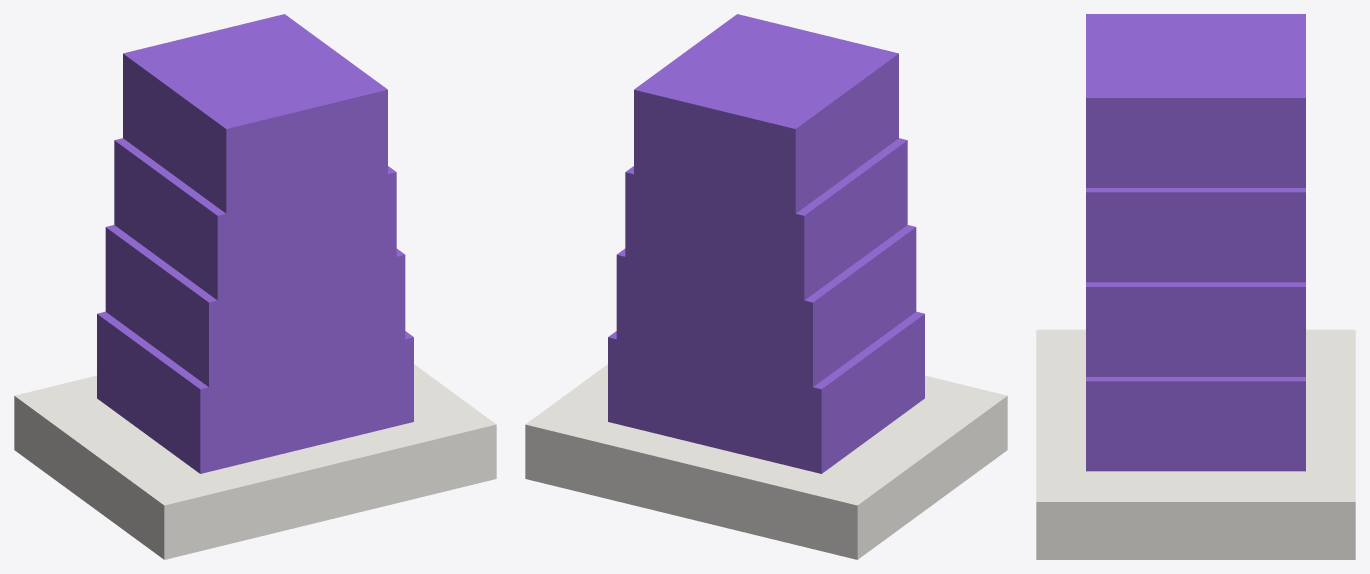
Rendered from art_easel-lv4.glb.
The picture shows the model from 3 angles, left to right: view 1: azimuth 30°, elevation 25°; view 2: azimuth 150°, elevation 25°; view 3: azimuth 270°, elevation 25°; orthographic projection. The views are drawn at different scales.
Visible parts, largest first — view 1: Base, Level4, Level1, Level2, Level3; view 2: Base, Level4, Level1, Level2, Level3; view 3: Base, Level4, Level1, Level2, Level3.
Part boxes in pixels (x1,y1,x2,y2): Base: [14, 364, 496, 559]; Level4: [123, 14, 387, 213]; Level1: [97, 311, 413, 473]; Level2: [105, 225, 405, 387]; Level3: [114, 138, 396, 300]; Base: [525, 364, 1007, 559]; Level4: [634, 14, 898, 213]; Level1: [608, 311, 924, 473]; Level2: [616, 225, 916, 387]; Level3: [625, 138, 907, 300]; Base: [1036, 329, 1355, 559]; Level4: [1086, 14, 1305, 187]; Level1: [1086, 377, 1305, 471]; Level2: [1086, 282, 1305, 376]; Level3: [1086, 188, 1305, 282].
Size of the model in its own units: 1.15 by 1.3 by 0.9.
